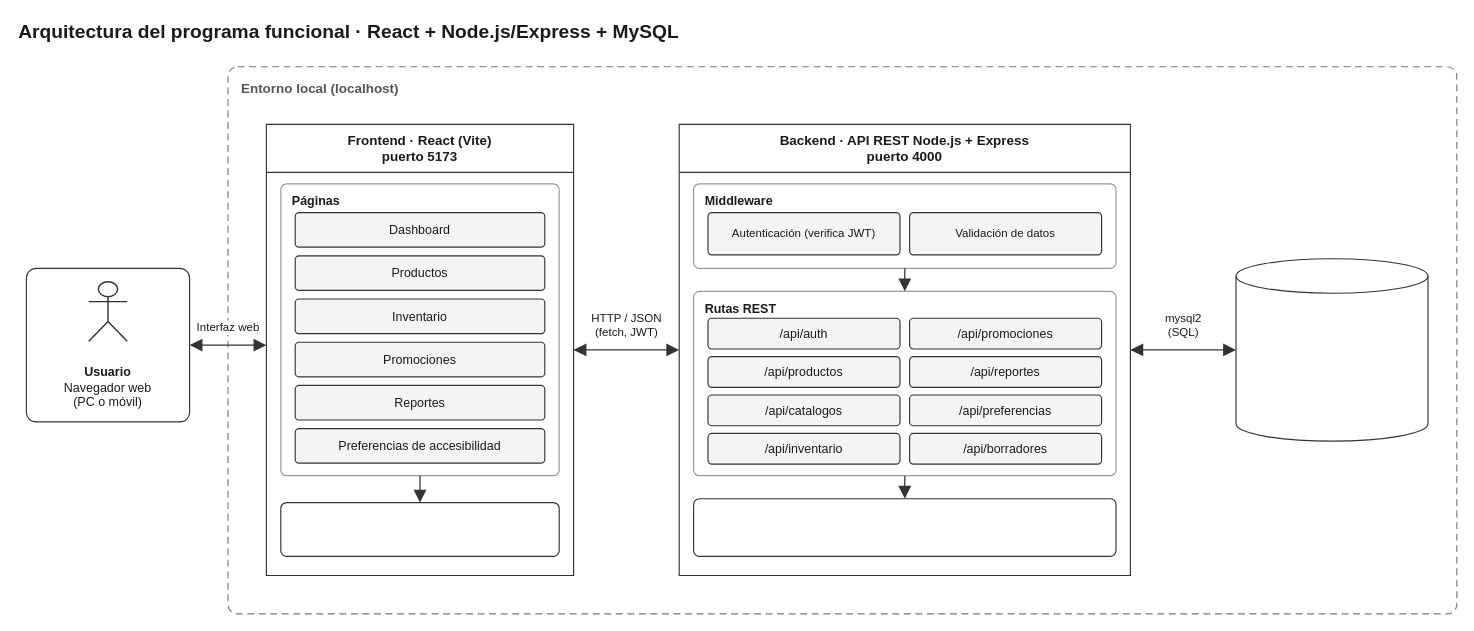
Some shapes in this 1474 by 631 pixel diagram are drawn without their labels. The shapes that lost their labels are listed below. From the top down, each one's centre as x and y in pixels, then its label:
point 1331,349: MySQL Base de datos: plazavea_ihm (13 tablas)
point 419,529: Cliente API (fetch) Token JWT en cabecera Authorization
point 904,527: Acceso a datos · mysql2 Pool de conexiones y consultas SQL parametrizadas
